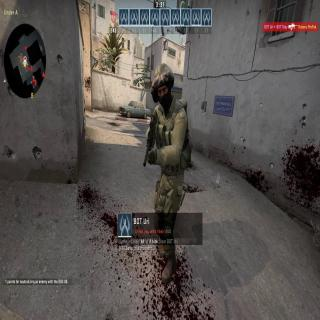CT-Body: (144, 63, 192, 282)
CT-Head: (149, 69, 177, 106)
